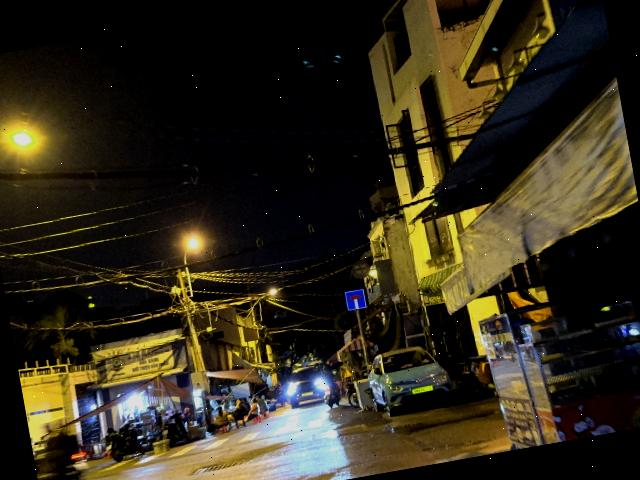duong-cut: (344, 288, 366, 311)
